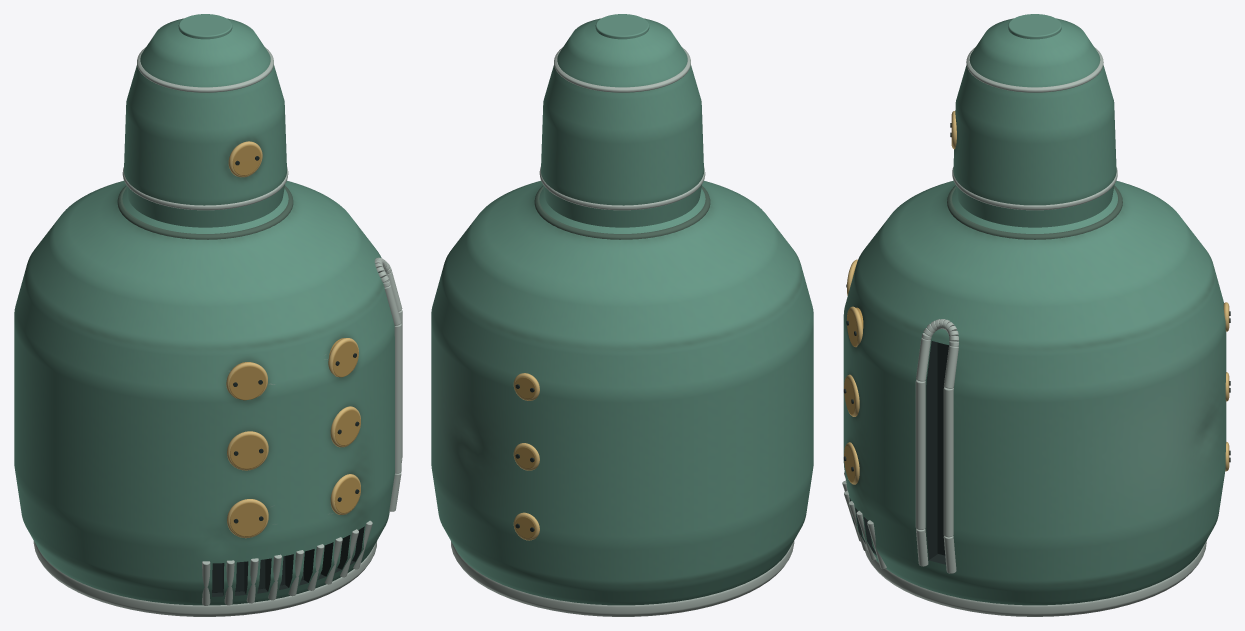
3 views of the same model, side by side, from view 1: azimuth 30°, elevation 25°; view 2: azimuth 150°, elevation 25°; view 3: azimuth 270°, elevation 25° (orthographic).
Parts seen in each view (by area): view 1: RI02 rounded filtration pressure body, RI02 capped upper tower, RI02 ground mounting rim, RI02 shoulder contaminated gasket, RI02 tower terminal cap, RI02 side channel retaining rail.001, RI02 front port 2-0 brass pressure face, RI02 front port 0-0 brass pressure face, RI02 front port 1-0 brass pressure face, RI02 tower cap worn rim, RI02 tower lower machined collar, RI02 front port 2-1 brass pressure face (+3 smaller); view 2: RI02 rounded filtration pressure body, RI02 capped upper tower, RI02 ground mounting rim, RI02 shoulder contaminated gasket, RI02 tower terminal cap, RI02 tower cap worn rim, RI02 tower lower machined collar; view 3: RI02 rounded filtration pressure body, RI02 capped upper tower, RI02 ground mounting rim, RI02 side channel retaining rail.004, RI02 side channel retaining rail.001, RI02 recessed side channel backing, RI02 shoulder contaminated gasket, RI02 tower terminal cap, RI02 tower cap worn rim, RI02 tower lower machined collar.
Boxes of the visible parts, <box> form: RI02 rounded filtration pressure body: <box>14,180,394,605</box>; RI02 capped upper tower: <box>124,18,286,227</box>; RI02 ground mounting rim: <box>33,541,376,616</box>; RI02 shoulder contaminated gasket: <box>117,185,293,239</box>; RI02 tower terminal cap: <box>178,14,232,39</box>; RI02 side channel retaining rail.001: <box>394,323,401,473</box>; RI02 front port 2-0 brass pressure face: <box>229,362,266,400</box>; RI02 front port 0-0 brass pressure face: <box>230,502,266,536</box>; RI02 front port 1-0 brass pressure face: <box>230,434,266,469</box>; RI02 tower cap worn rim: <box>137,47,273,92</box>; RI02 tower lower machined collar: <box>122,167,288,210</box>; RI02 front port 2-1 brass pressure face: <box>329,338,358,377</box>; RI02 rounded filtration pressure body: <box>431,180,813,605</box>; RI02 capped upper tower: <box>541,18,703,227</box>; RI02 ground mounting rim: <box>451,541,794,616</box>; RI02 shoulder contaminated gasket: <box>534,186,710,239</box>; RI02 tower terminal cap: <box>595,14,649,39</box>; RI02 tower cap worn rim: <box>554,47,690,92</box>; RI02 tower lower machined collar: <box>539,167,705,210</box>; RI02 rounded filtration pressure body: <box>843,180,1226,605</box>; RI02 capped upper tower: <box>953,18,1116,227</box>; RI02 ground mounting rim: <box>865,540,1206,616</box>; RI02 side channel retaining rail.004: <box>943,387,953,537</box>; RI02 side channel retaining rail.001: <box>915,380,925,529</box>; RI02 recessed side channel backing: <box>937,342,948,555</box>; RI02 shoulder contaminated gasket: <box>947,185,1122,239</box>; RI02 tower terminal cap: <box>1008,14,1061,39</box>; RI02 tower cap worn rim: <box>966,47,1103,92</box>; RI02 tower lower machined collar: <box>952,167,1117,210</box>.
Size of the model in its own units: 1.64 by 2.49 by 1.67.
Materials: 8 (2 with a texture image).
